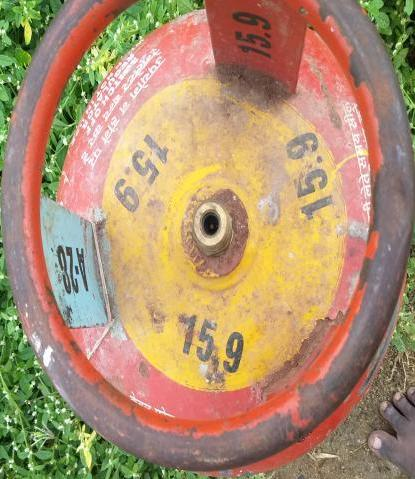cylinder: (1, 0, 415, 479)
